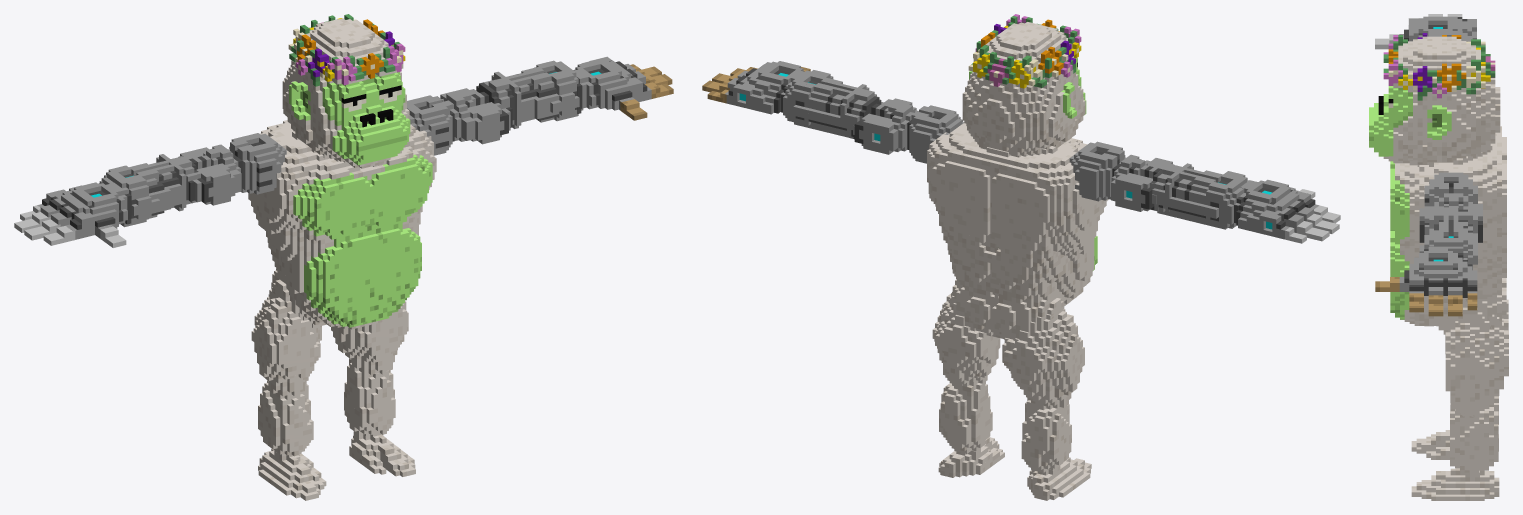
3 views of the same model, side by side, from view 1: azimuth 30°, elevation 25°; view 2: azimuth 150°, elevation 25°; view 3: azimuth 270°, elevation 25° (orthographic). The views are drawn at different scales.
Visible parts, largest first — view 1: body_chest, body_head, body_right_thigh, body_right_arm, body_left_arm, body_left_forearm, body_right_forearm, body_right_hand, body_left_leg, body_right_leg, body_left_hand, body_left_thigh (+2 smaller); view 2: body_chest, body_head, body_right_thigh, body_right_arm, body_right_forearm, body_left_arm, body_left_forearm, body_left_thigh, body_hip, body_right_hand, body_left_leg, body_right_leg (+3 smaller); view 3: body_head, body_chest, body_left_thigh, body_left_hand, body_left_leg, body_left_arm, body_left_foot, body_left_forearm, body_hip, body_right_hand, body_right_foot, body_right_forearm (+3 smaller).
Part boxes in pixels (x1=…): body_chest: x1=248, y1=120, x2=436, y2=329; body_head: x1=282, y1=14, x2=410, y2=168; body_right_thigh: x1=251, y1=282, x2=321, y2=399; body_right_arm: x1=178, y1=133, x2=286, y2=205; body_left_arm: x1=407, y1=88, x2=514, y2=155; body_left_forearm: x1=476, y1=60, x2=583, y2=128; body_right_forearm: x1=98, y1=154, x2=198, y2=227; body_right_hand: x1=37, y1=182, x2=131, y2=239; body_left_leg: x1=344, y1=358, x2=395, y2=436; body_right_leg: x1=258, y1=380, x2=313, y2=456; body_left_hand: x1=573, y1=56, x2=651, y2=110; body_left_thigh: x1=331, y1=301, x2=408, y2=375; body_chest: x1=927, y1=121, x2=1108, y2=305; body_head: x1=962, y1=14, x2=1086, y2=156; body_right_thigh: x1=1002, y1=309, x2=1084, y2=410; body_right_arm: x1=1069, y1=141, x2=1174, y2=211; body_right_forearm: x1=1151, y1=163, x2=1248, y2=229; body_left_arm: x1=847, y1=98, x2=964, y2=163; body_left_forearm: x1=781, y1=70, x2=881, y2=137; body_left_thigh: x1=932, y1=291, x2=1000, y2=389; body_hip: x1=952, y1=248, x2=1064, y2=339; body_right_hand: x1=1234, y1=179, x2=1318, y2=239; body_left_leg: x1=939, y1=380, x2=992, y2=453; body_right_leg: x1=1021, y1=397, x2=1071, y2=472; body_head: x1=1369, y1=33, x2=1500, y2=166; body_chest: x1=1390, y1=126, x2=1506, y2=326; body_left_thigh: x1=1445, y1=312, x2=1508, y2=417; body_left_hand: x1=1399, y1=247, x2=1477, y2=297; body_left_leg: x1=1450, y1=406, x2=1498, y2=472; body_left_arm: x1=1419, y1=172, x2=1482, y2=242; body_left_foot: x1=1411, y1=468, x2=1499, y2=500; body_left_forearm: x1=1419, y1=207, x2=1477, y2=270; body_hip: x1=1436, y1=278, x2=1506, y2=334; body_right_hand: x1=1399, y1=16, x2=1476, y2=41; body_right_foot: x1=1411, y1=430, x2=1498, y2=459; body_right_forearm: x1=1428, y1=31, x2=1472, y2=41.
Size of the model in its own units: 290 by 193 by 57.54.
Materials: 3 (3 with a texture image).
